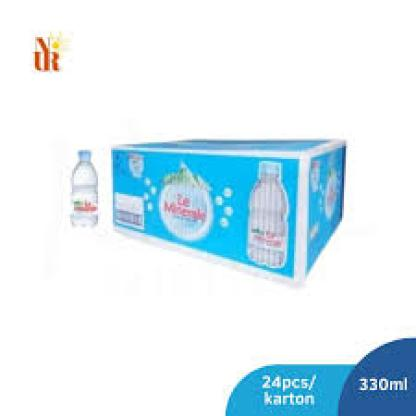Glass Bottle: (67, 150, 103, 233)
